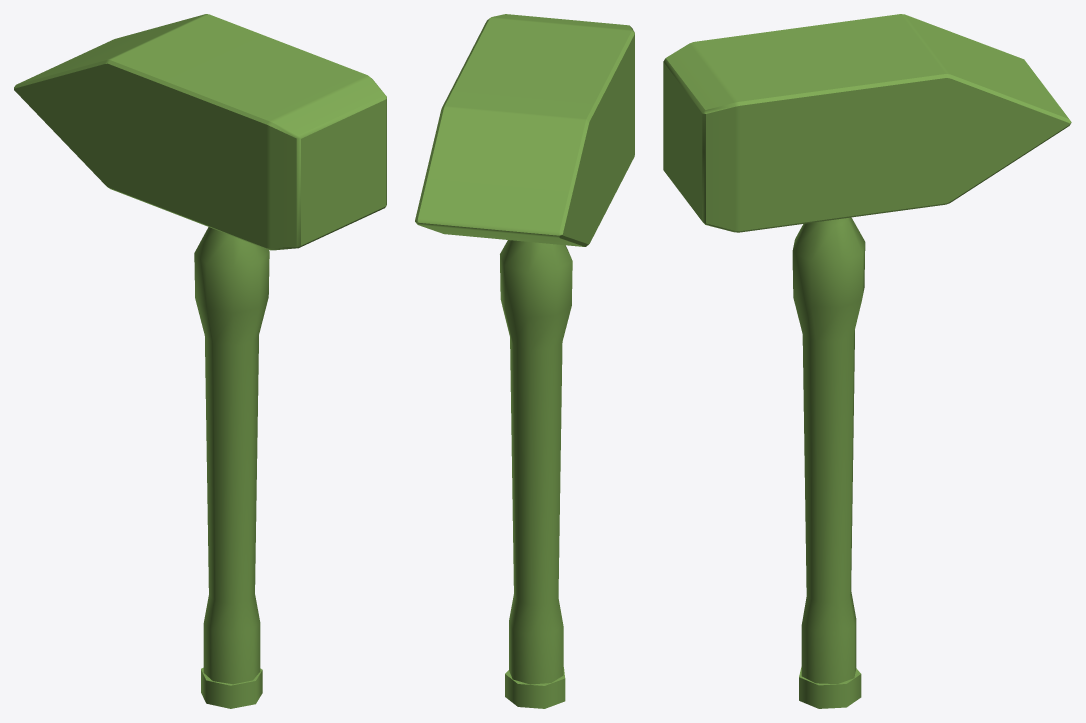
File: IronHammer.fbx
3 views of the same model, side by side, from view 1: azimuth 30°, elevation 25°; view 2: azimuth 150°, elevation 25°; view 3: azimuth 270°, elevation 25° (orthographic). The views are drawn at different scales.
Visible parts, largest first — view 1: IronHammer; view 2: IronHammer; view 3: IronHammer.
Boxes of the visible parts, x1=… form: IronHammer: x1=14, y1=14, x2=386, y2=708; IronHammer: x1=415, y1=14, x2=634, y2=708; IronHammer: x1=663, y1=14, x2=1071, y2=708.
Size of the model in its own units: 27.16 by 75.48 by 43.68.
